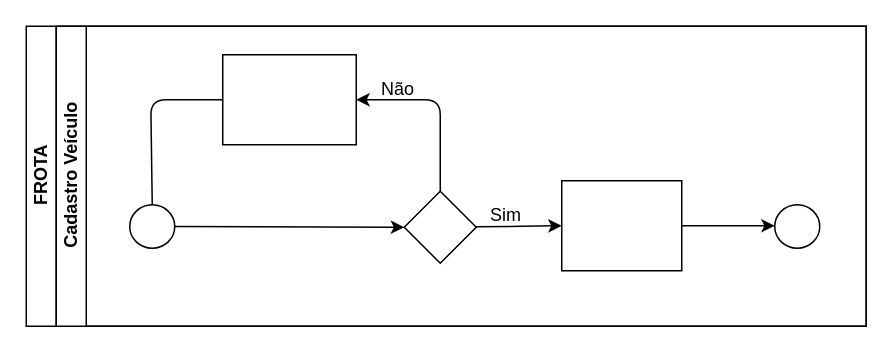
The diagram is 893 pixels wide and 353 high, and some of its shapes have lost their labels. The shapes that lost their labels are listed below. From the top down, each one's centre as x and y in pixels, then its label:
At pixel 288 99: "Informações básica para permitir cadastro".
At pixel 621 225: "Cadastrar veículo".
